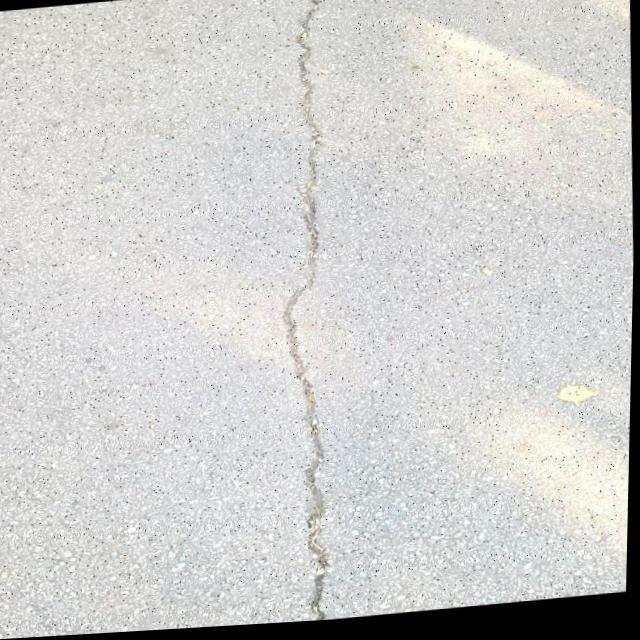Crack: (247, 0, 364, 628)
